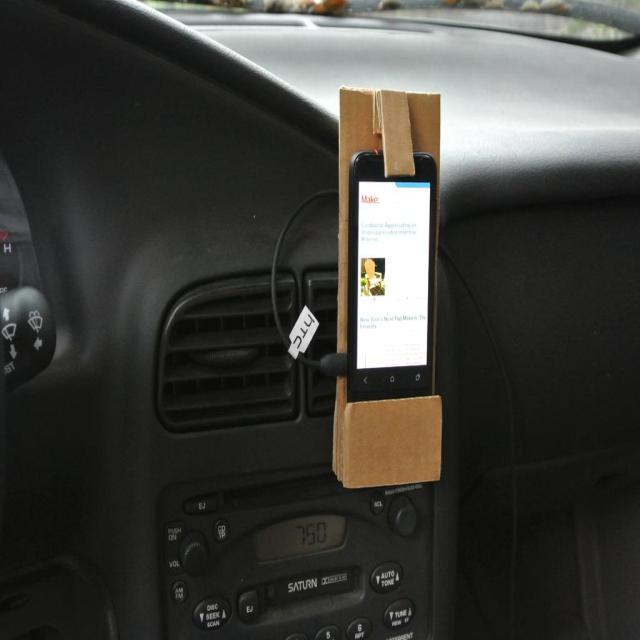mobile: (346, 150, 438, 402)
